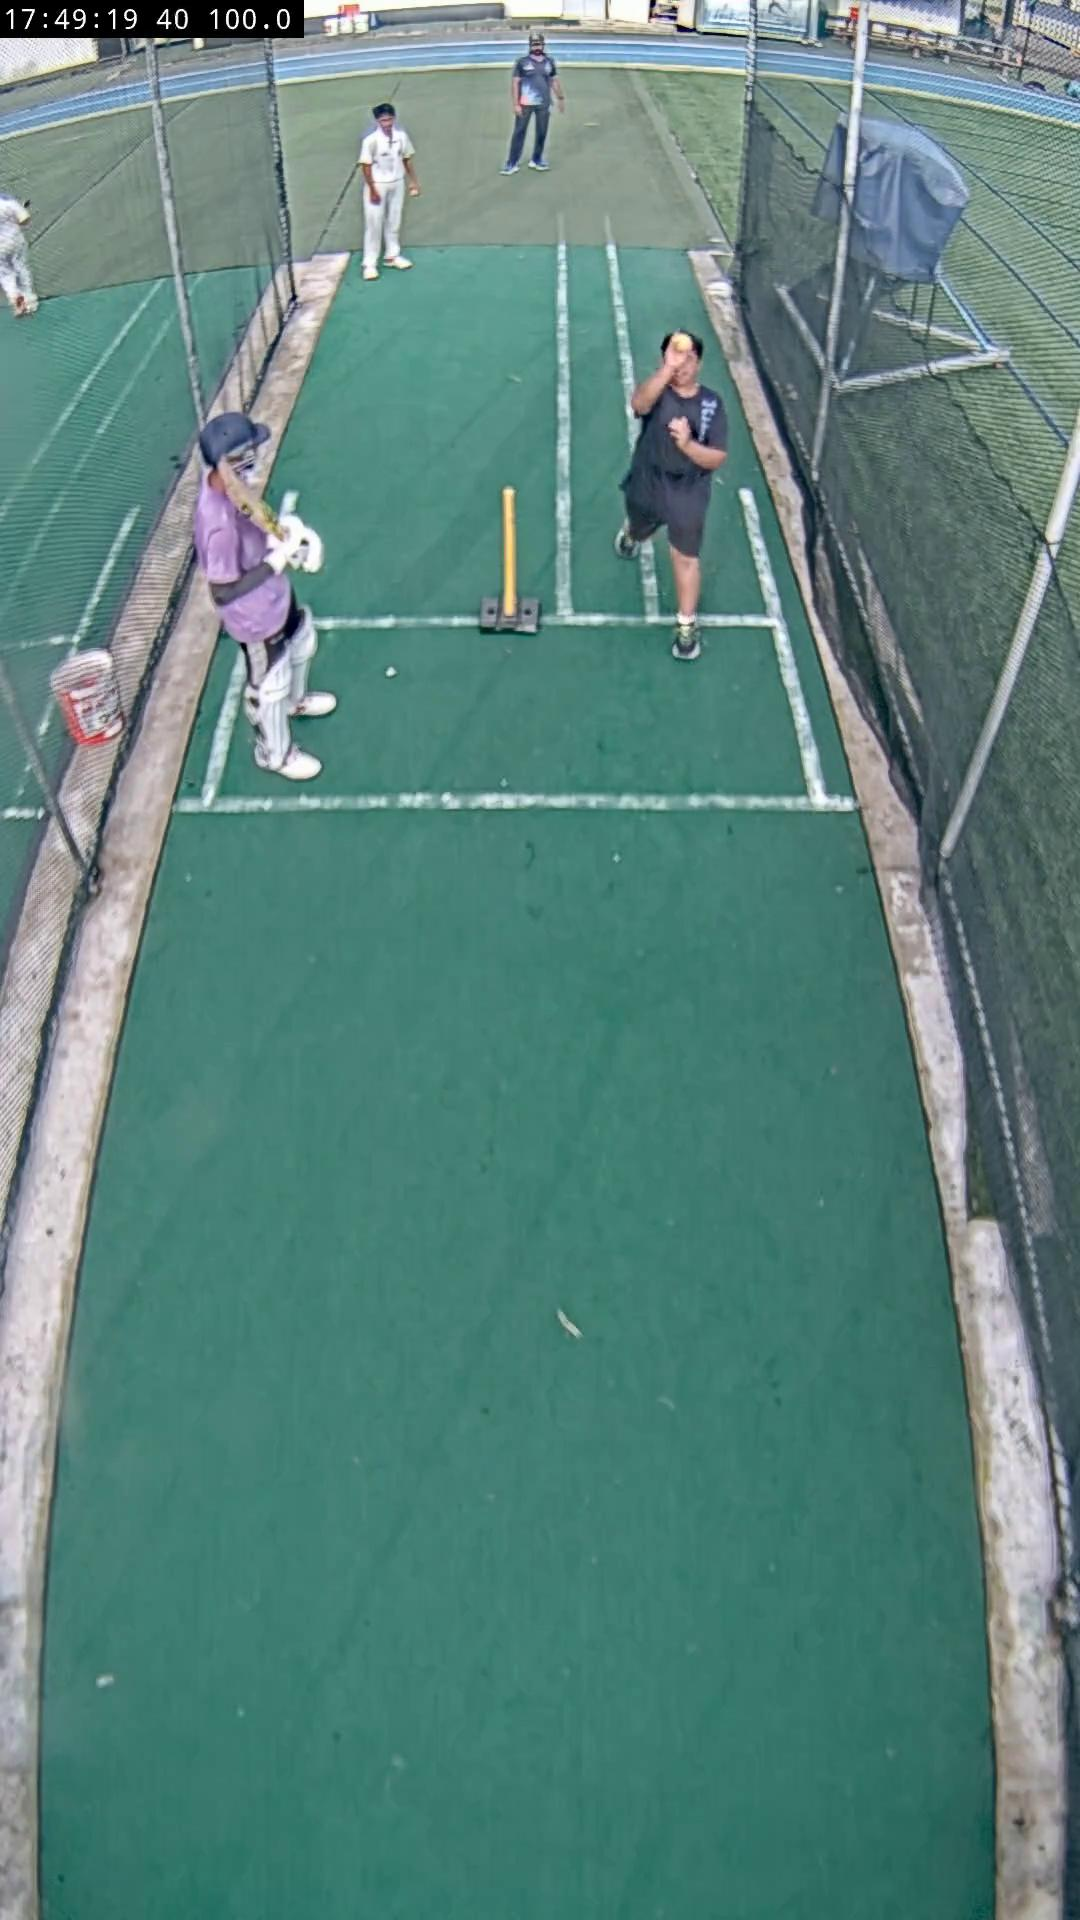ball: (675, 336, 690, 351)
stumps: (476, 488, 541, 634)
